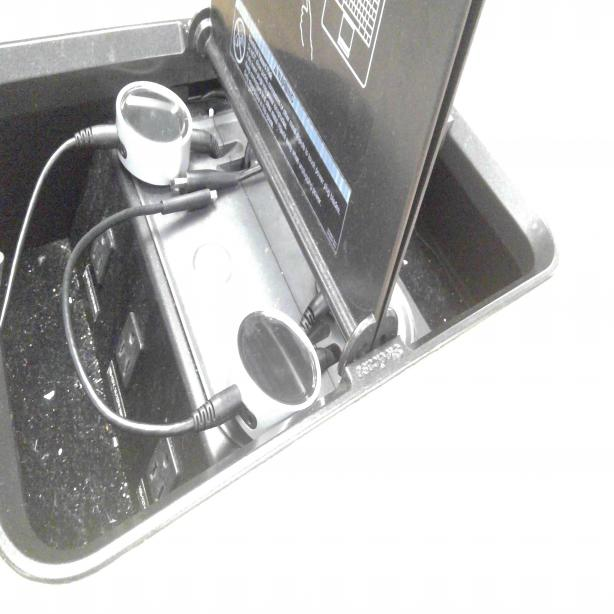typeb: (113, 322, 144, 381), (146, 441, 175, 500), (91, 230, 110, 278)
